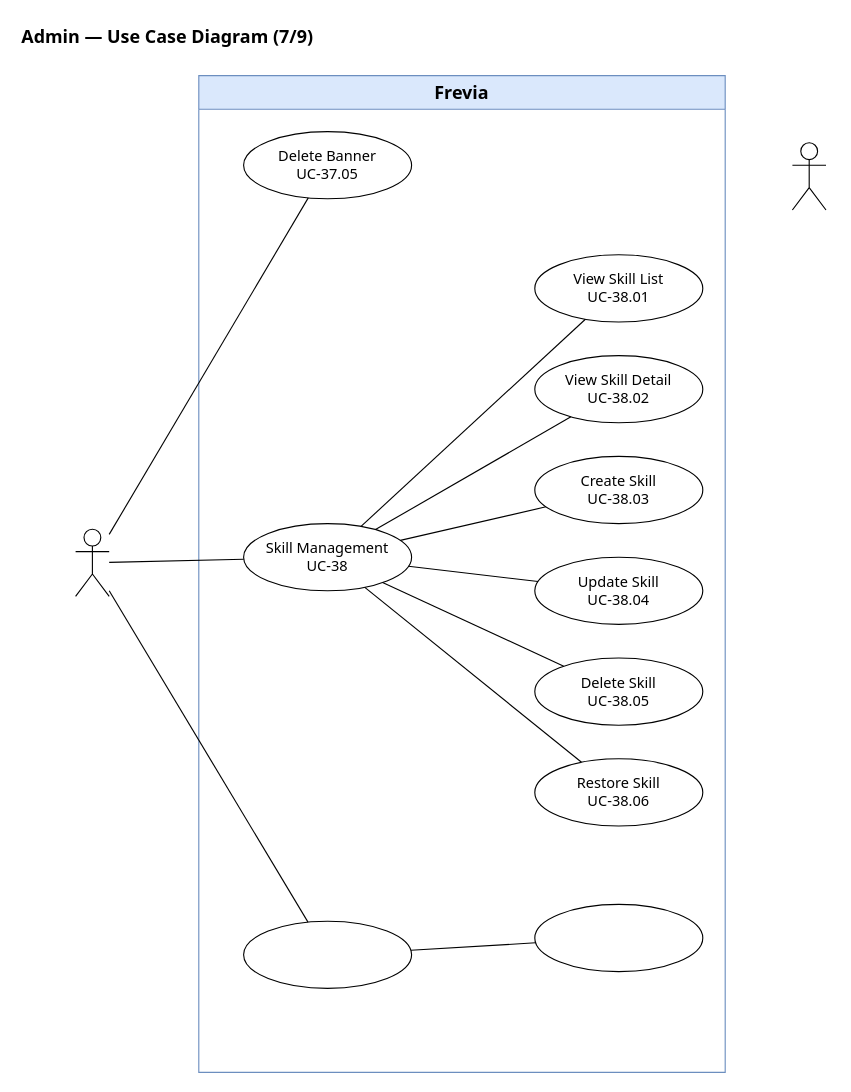
This 851x1092 diagram has some shape labels left out. The shapes that lost their labels are listed below. From the top down, each one's centre as x and y in pixels, then its label:
At point 808,176: "Stripe".
At point 91,562: "Admin".
At point 327,954: "Account Profile Management UC-41".
At point 618,937: "View Profile UC-41.01".
